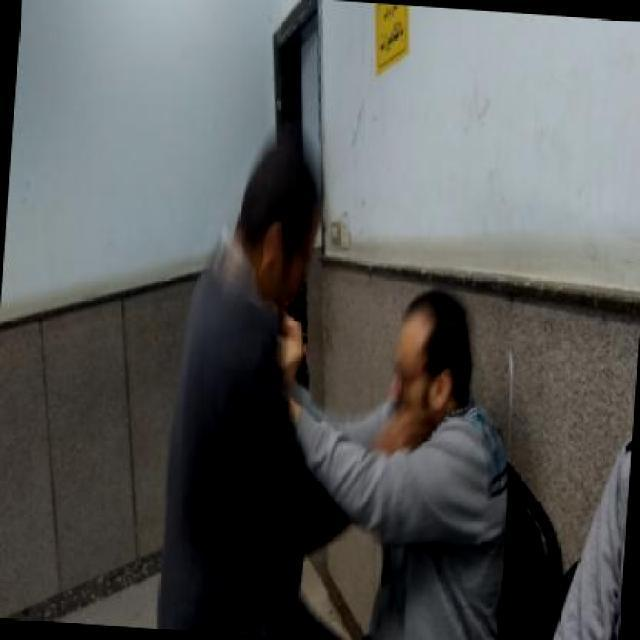fight: (154, 134, 543, 638)
